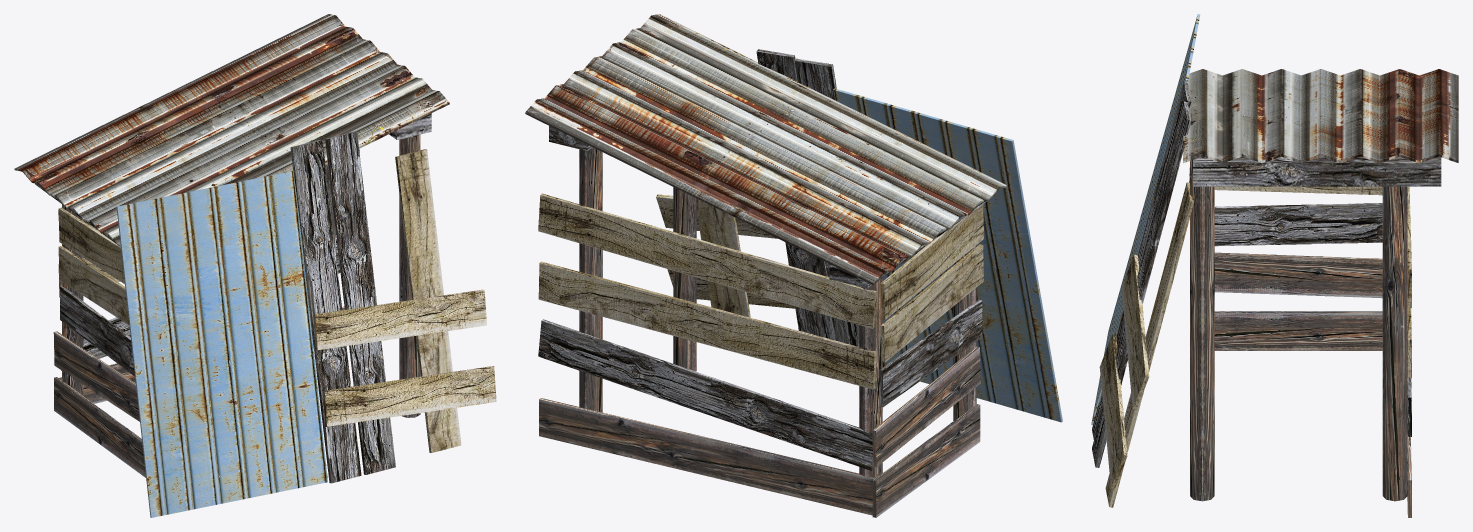
File: shack_03.fbx
The picture shows the model from 3 angles, left to right: view 1: azimuth 30°, elevation 25°; view 2: azimuth 150°, elevation 25°; view 3: azimuth 270°, elevation 25°; orthographic projection. The views are drawn at different scales.
Parts seen in each view (by area): view 1: shack_03; view 2: shack_03; view 3: shack_03.
Boxes of the visible parts, x1,y1,x2,y2 form: shack_03: [14, 14, 496, 517]; shack_03: [525, 14, 1062, 517]; shack_03: [1091, 14, 1458, 517].
Bounding box in the file's own units: 3.78 × 3.31 × 3.03.
